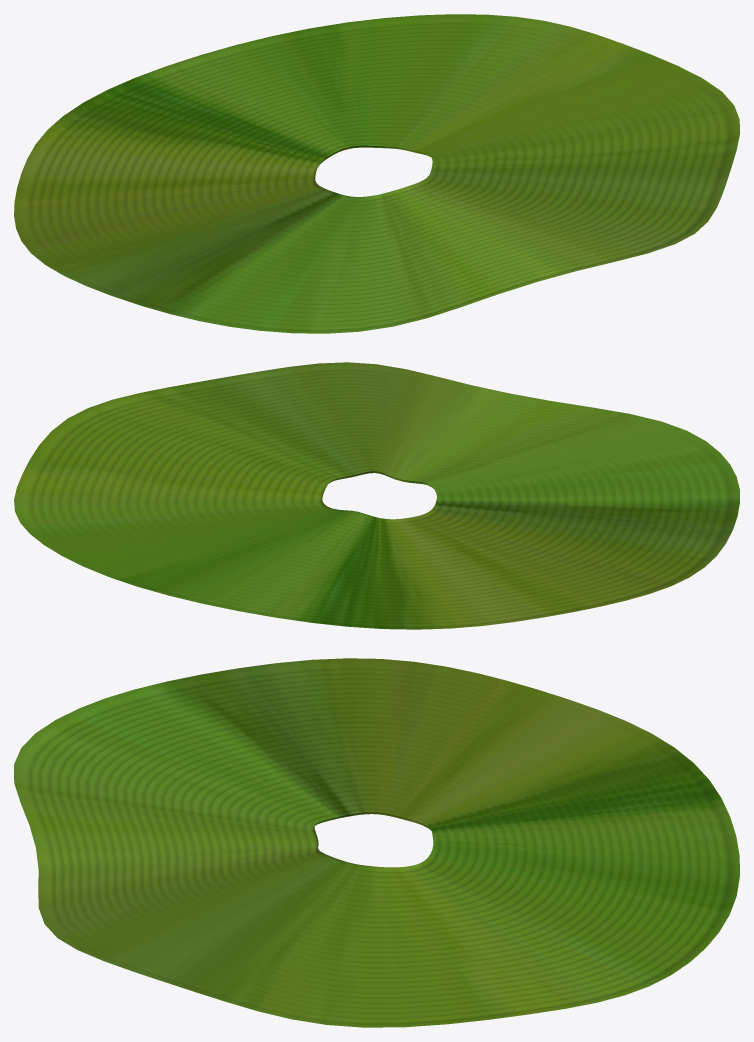
Rendered from Sand02.glb.
3 renders of one model, top to bottom at view 1: azimuth 30°, elevation 25°; view 2: azimuth 150°, elevation 25°; view 3: azimuth 270°, elevation 25°, orthographic. The views are drawn at different scales.
Visible parts, largest first — view 1: Sand; view 2: Sand; view 3: Sand.
Part boxes in pixels (x1,y1,x2,y2): Sand: [14, 14, 739, 333]; Sand: [14, 362, 739, 629]; Sand: [14, 658, 739, 1027].
Size of the model in its own units: 12.13 by 0.1476 by 10.06.
1 material, 1 textured.
